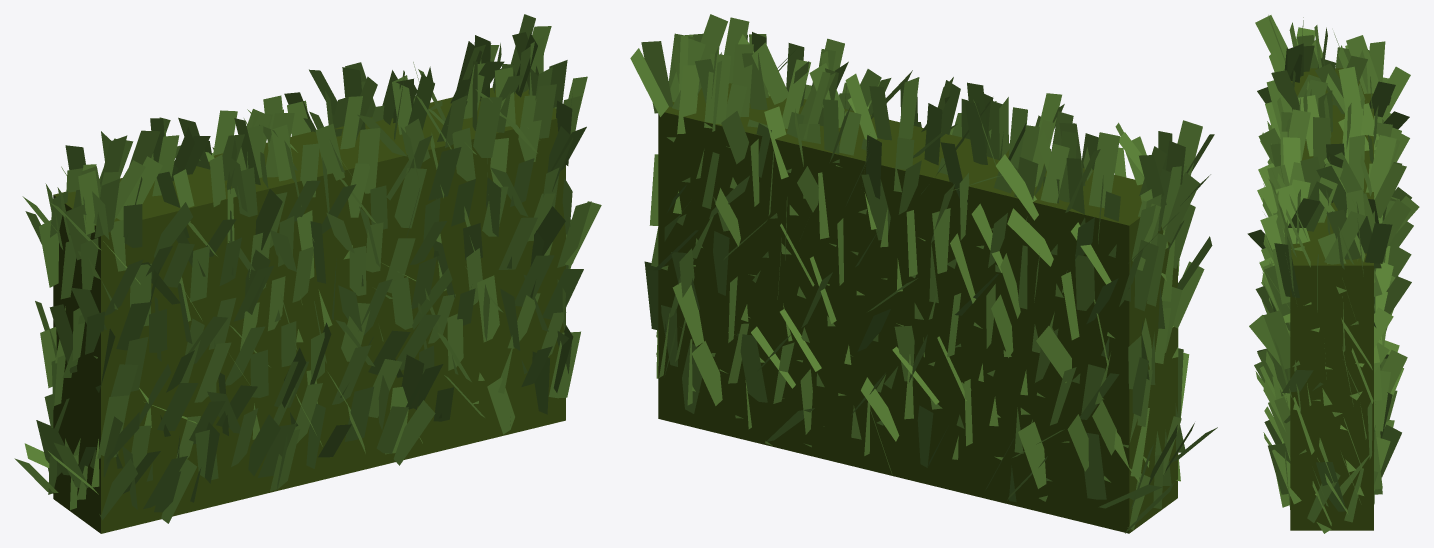
The model's file is WallHedge1.glb.
3 views of the same model, side by side, from view 1: azimuth 30°, elevation 25°; view 2: azimuth 150°, elevation 25°; view 3: azimuth 270°, elevation 25° (orthographic). The views are drawn at different scales.
Visible parts, largest first — view 1: WallHedge1; view 2: WallHedge1; view 3: WallHedge1.
Boxes of the visible parts, <box> form: WallHedge1: <box>14,14,601,533</box>; WallHedge1: <box>630,14,1217,533</box>; WallHedge1: <box>1247,15,1419,533</box>.
Size of the model in its own units: 5.28 by 3.43 by 1.65.
